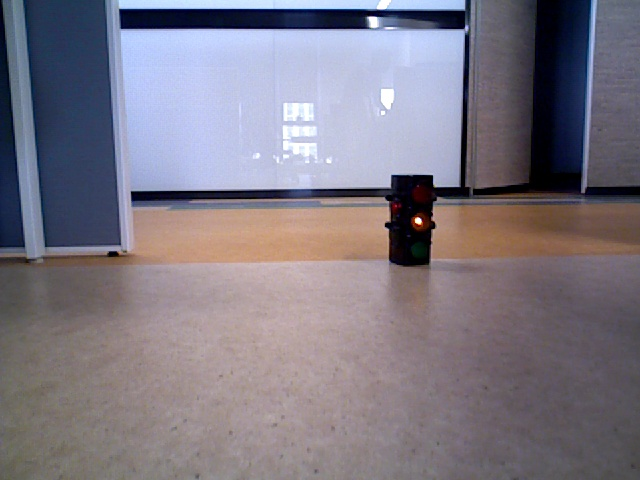yellow: (391, 177, 429, 263)
